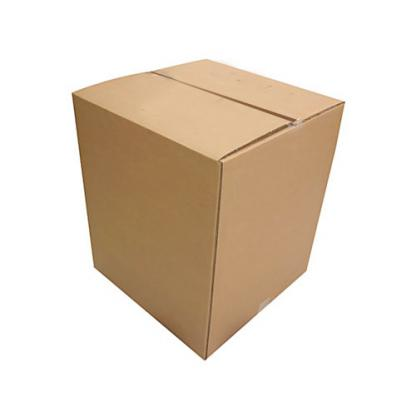box: (70, 57, 346, 362)
